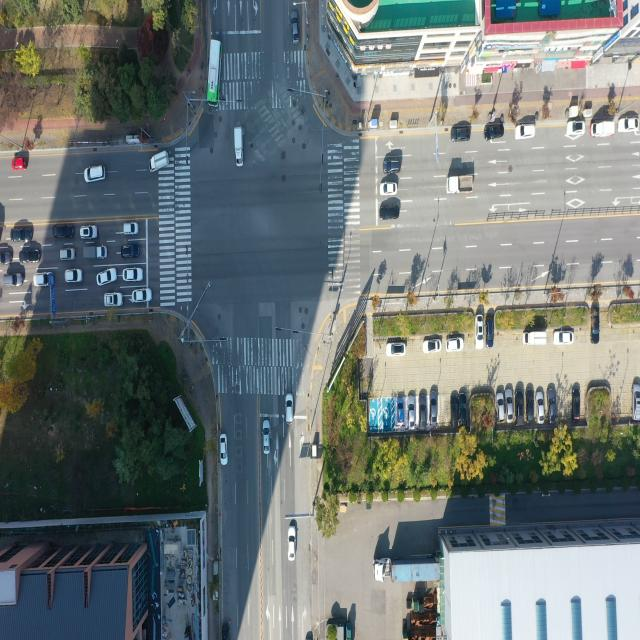car: (629, 381, 640, 422), (474, 312, 485, 350), (590, 305, 600, 345), (514, 120, 535, 139), (287, 521, 297, 560), (571, 386, 581, 425), (284, 391, 295, 426), (514, 389, 524, 427), (85, 166, 106, 184), (553, 328, 574, 346), (547, 387, 557, 424), (618, 116, 638, 134), (429, 389, 438, 429), (11, 227, 32, 244), (565, 120, 586, 137), (218, 432, 228, 467), (19, 248, 40, 264), (263, 419, 272, 455), (526, 388, 535, 424), (418, 394, 427, 430), (98, 269, 117, 286), (385, 341, 406, 356), (486, 125, 504, 142), (34, 272, 53, 288), (54, 224, 74, 239), (422, 337, 442, 352), (485, 316, 494, 348), (459, 392, 467, 428), (536, 391, 544, 426), (407, 395, 415, 430), (11, 156, 28, 172), (450, 395, 458, 429), (132, 288, 150, 303), (124, 269, 142, 284), (381, 206, 399, 221), (446, 337, 464, 352), (506, 391, 514, 424), (496, 392, 504, 424), (104, 293, 122, 307), (122, 245, 140, 259), (380, 181, 398, 195), (80, 228, 97, 242), (452, 129, 469, 143), (4, 274, 22, 287), (291, 13, 299, 42), (65, 271, 82, 284), (384, 161, 401, 174), (124, 222, 139, 236), (219, 621, 230, 640), (60, 248, 76, 261), (382, 198, 401, 208), (397, 398, 404, 422), (95, 247, 108, 259)
large_bus: (206, 38, 222, 109)
large_truck: (370, 554, 442, 585)
small_truck: (447, 174, 475, 196), (590, 120, 616, 142), (148, 150, 170, 173), (234, 126, 246, 168), (523, 328, 547, 348)
